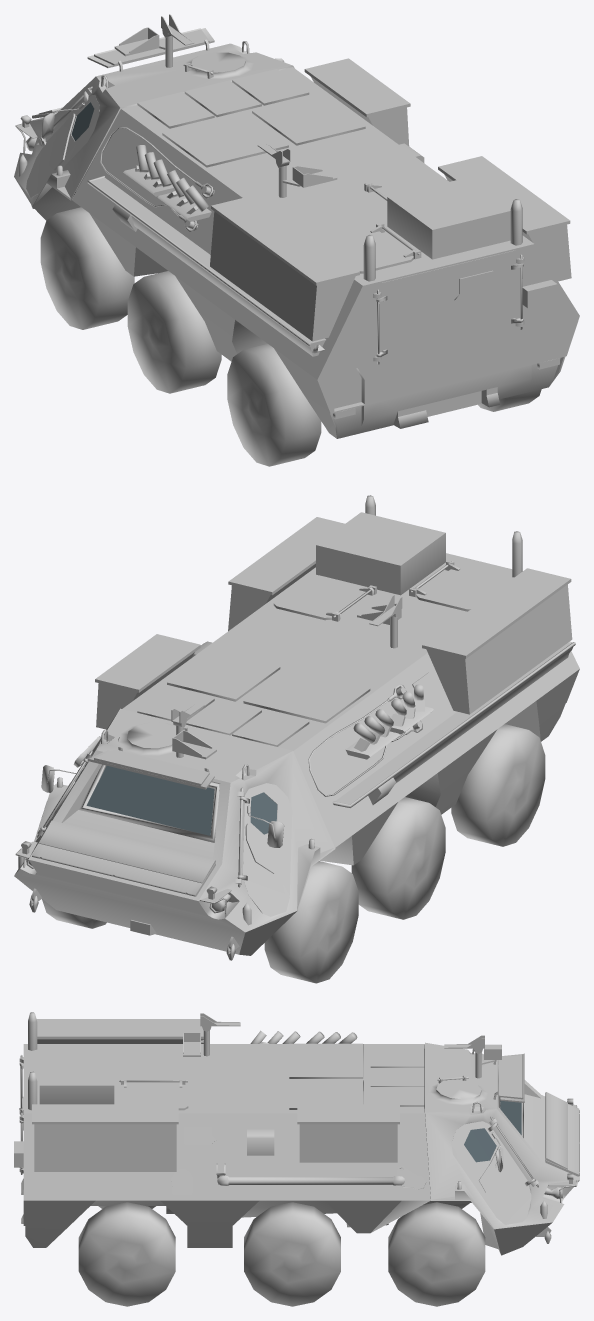
The model's file is VAB_lod3.FBX.
3 renders of one model, top to bottom at view 1: azimuth 30°, elevation 25°; view 2: azimuth 150°, elevation 25°; view 3: azimuth 270°, elevation 25°, orthographic. The views are drawn at different scales.
Parts seen in each view (by area): view 1: VAB_BODY003, VAB_DOOR_RB, VAB_WHEEL_L03, VAB_WHEEL_L01, VAB_WHEEL_L02, VAB_DOOR_LB, VAB_DOOR_TOP4, VAB_DOOR_TOP5, Cylinder1107, VAB_DOOR_TOP7, VAB_DOOR_TOP1, VAB_DOOR_TOP3 (+2 smaller); view 2: VAB_BODY003, VAB_WHEEL_L03, VAB_WHEEL_L02, VAB_WHEEL_L01, Cylinder1107, VAB_DOOR_TOP4, VAB_DOOR_TOP5, VAB_DOOR_TOP6, VAB_DOOR_TOP7, VAB_DOOR_TOP1, VAB_DOOR_TOP2, VAB_DOOR_TOP3 (+2 smaller); view 3: VAB_BODY003, VAB_WHEEL_R03, VAB_WHEEL_R01, VAB_WHEEL_R02, Cylinder1108, VAB_DOOR_TOP4, VAB_DOOR_TOP5, VAB_DOOR_TOP6, VAB_DOOR_TOP2, VAB_DOOR_TOP1, VAB_DOOR_TOP3, VAB_DOOR_RF (+1 smaller).
Boxes of the visible parts, left/top/right/bottom form: VAB_BODY003: left=14, top=14, right=579, bottom=438; VAB_DOOR_RB: left=448, top=250, right=523, bottom=384; VAB_WHEEL_L03: left=227, top=344, right=321, bottom=466; VAB_WHEEL_L01: left=40, top=207, right=134, bottom=329; VAB_WHEEL_L02: left=127, top=271, right=221, bottom=393; VAB_DOOR_LB: left=376, top=266, right=448, bottom=400; VAB_DOOR_TOP4: left=162, top=113, right=288, bottom=167; VAB_DOOR_TOP5: left=252, top=94, right=365, bottom=145; Cylinder1107: left=26, top=91, right=99, bottom=197; VAB_DOOR_TOP7: left=319, top=225, right=415, bottom=273; VAB_DOOR_TOP1: left=137, top=92, right=214, bottom=128; VAB_DOOR_TOP3: left=232, top=69, right=309, bottom=105; VAB_BODY003: left=14, top=495, right=579, bottom=960; VAB_WHEEL_L03: left=451, top=724, right=545, bottom=846; VAB_WHEEL_L02: left=351, top=797, right=445, bottom=919; VAB_WHEEL_L01: left=264, top=861, right=358, bottom=983; Cylinder1107: left=237, top=783, right=292, bottom=916; VAB_DOOR_TOP4: left=243, top=668, right=370, bottom=723; VAB_DOOR_TOP5: left=167, top=650, right=280, bottom=701; VAB_DOOR_TOP6: left=273, top=575, right=374, bottom=620; VAB_DOOR_TOP7: left=414, top=563, right=510, bottom=611; VAB_DOOR_TOP1: left=232, top=710, right=309, bottom=746; VAB_DOOR_TOP2: left=186, top=699, right=261, bottom=735; VAB_DOOR_TOP3: left=137, top=687, right=214, bottom=720; VAB_BODY003: left=14, top=1012, right=579, bottom=1255; VAB_WHEEL_R03: left=78, top=1202, right=175, bottom=1306; VAB_WHEEL_R01: left=388, top=1202, right=485, bottom=1306; VAB_WHEEL_R02: left=244, top=1202, right=340, bottom=1306; Cylinder1108: left=451, top=1121, right=535, bottom=1224; VAB_DOOR_TOP4: left=289, top=1043, right=363, bottom=1078; VAB_DOOR_TOP5: left=289, top=1080, right=363, bottom=1109; VAB_DOOR_TOP6: left=118, top=1080, right=188, bottom=1110; VAB_DOOR_TOP2: left=370, top=1067, right=424, bottom=1086; VAB_DOOR_TOP1: left=370, top=1048, right=424, bottom=1067; VAB_DOOR_TOP3: left=370, top=1086, right=424, bottom=1106; VAB_DOOR_RF: left=464, top=1128, right=496, bottom=1162.
Bounding box in the file's own units: 13.09 × 12.09 × 28.65.
